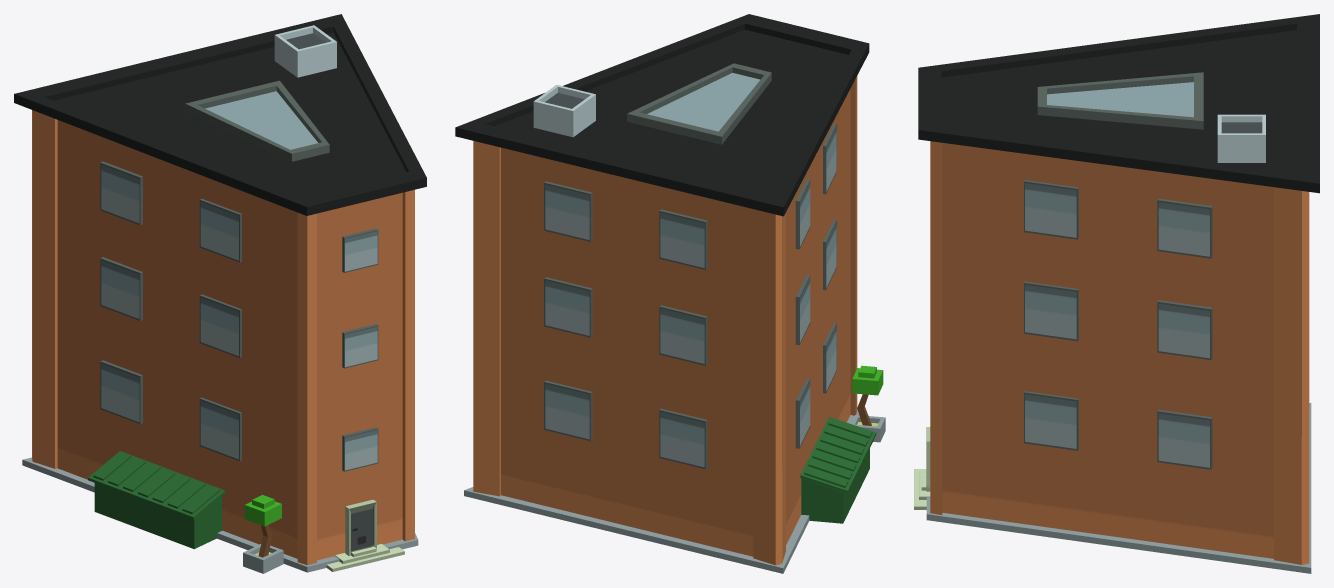
File: Basic Triangular Low.fbx
3 views of the same model, side by side, from view 1: azimuth 30°, elevation 25°; view 2: azimuth 150°, elevation 25°; view 3: azimuth 270°, elevation 25° (orthographic). The views are drawn at different scales.
Visible parts, largest first — view 1: Basic Triangular Low; view 2: Basic Triangular Low; view 3: Basic Triangular Low.
Part boxes in pixels (bbox=[...]): Basic Triangular Low: bbox=[14, 14, 426, 573]; Basic Triangular Low: bbox=[455, 14, 885, 573]; Basic Triangular Low: bbox=[914, 14, 1319, 573].
Bounding box in the file's own units: 5.71 × 6.49 × 5.76.
